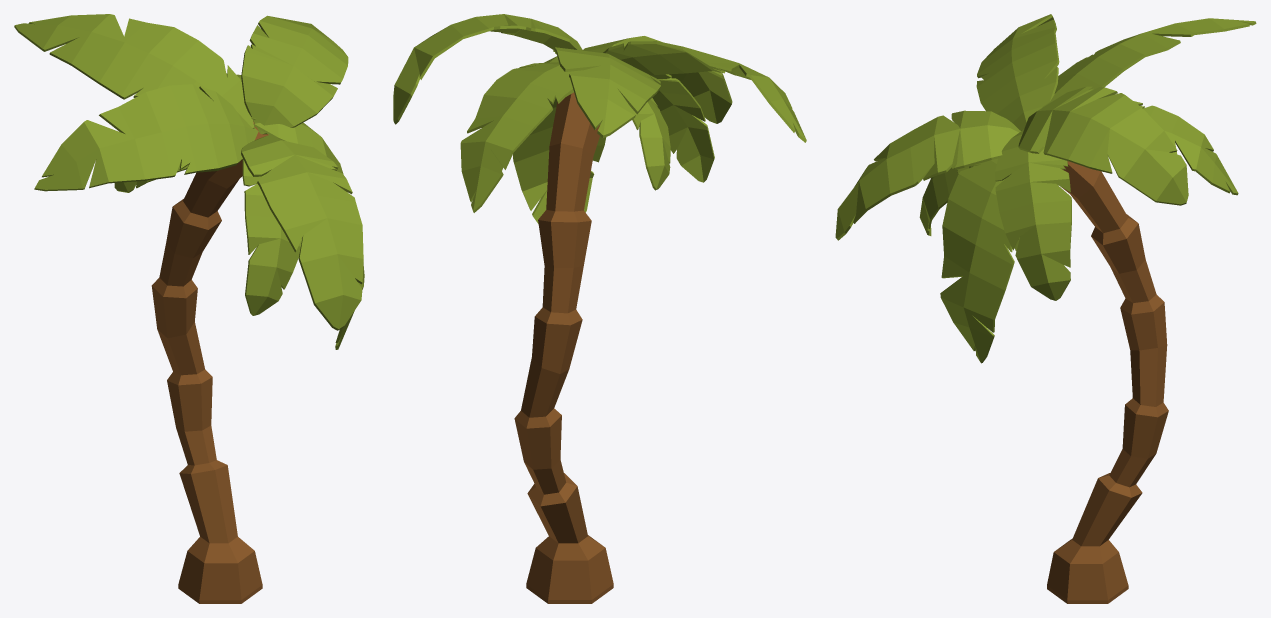
Rendered from PalmTree.001.fbx.
3 renders of one model, left to right at view 1: azimuth 30°, elevation 25°; view 2: azimuth 150°, elevation 25°; view 3: azimuth 270°, elevation 25°, orthographic. The views are drawn at different scales.
Parts seen in each view (by area): view 1: PalmTree.001; view 2: PalmTree.001; view 3: PalmTree.001.
Part boxes in pixels (x1=…): PalmTree.001: x1=14, y1=14, x2=364, y2=603; PalmTree.001: x1=393, y1=14, x2=806, y2=603; PalmTree.001: x1=835, y1=14, x2=1256, y2=603.
Size of the model in its own units: 2.82 by 4.3 by 3.09.
